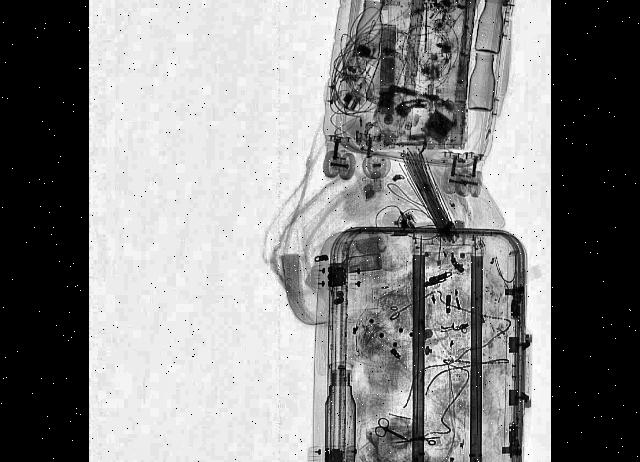Scissors: (374, 412, 408, 450)
